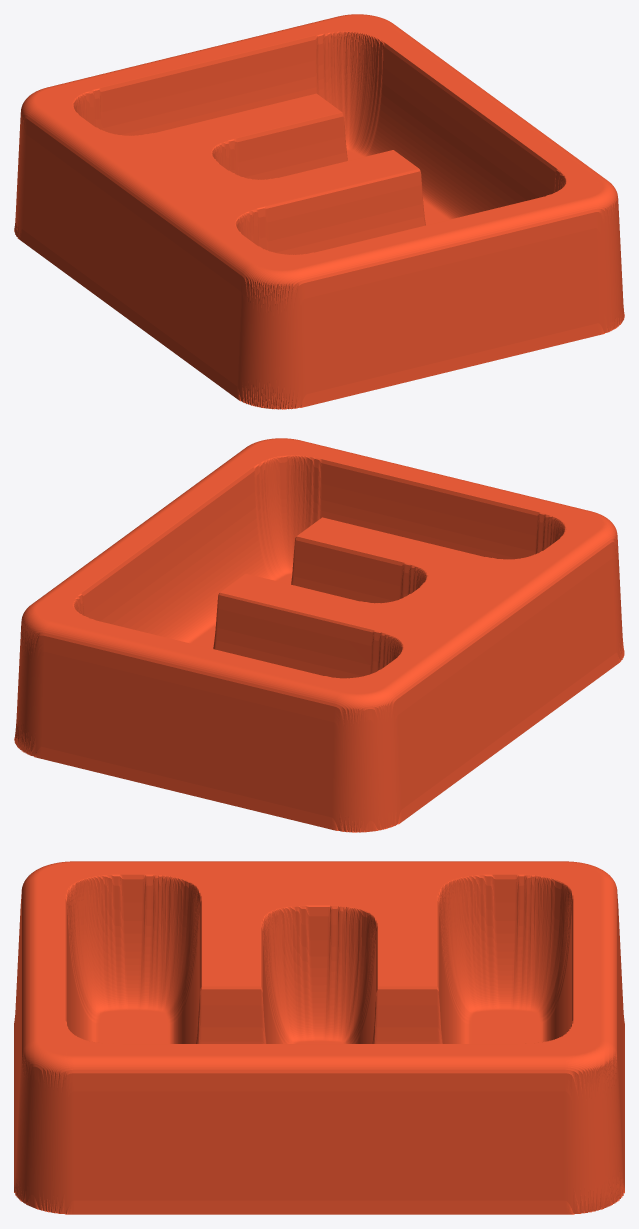
File: mold.glb
3 views of the same model, one above another, from view 1: azimuth 30°, elevation 25°; view 2: azimuth 150°, elevation 25°; view 3: azimuth 270°, elevation 25° (orthographic). The views are drawn at different scales.
Visible parts, largest first — view 1: geometry_0; view 2: geometry_0; view 3: geometry_0.
Boxes of the visible parts, x1=… form: geometry_0: x1=14, y1=14, x2=624, y2=409; geometry_0: x1=14, y1=438, x2=624, y2=832; geometry_0: x1=14, y1=861, x2=624, y2=1214.
Bounding box in the file's own units: 0.0762 × 0.0248 × 0.0924.
